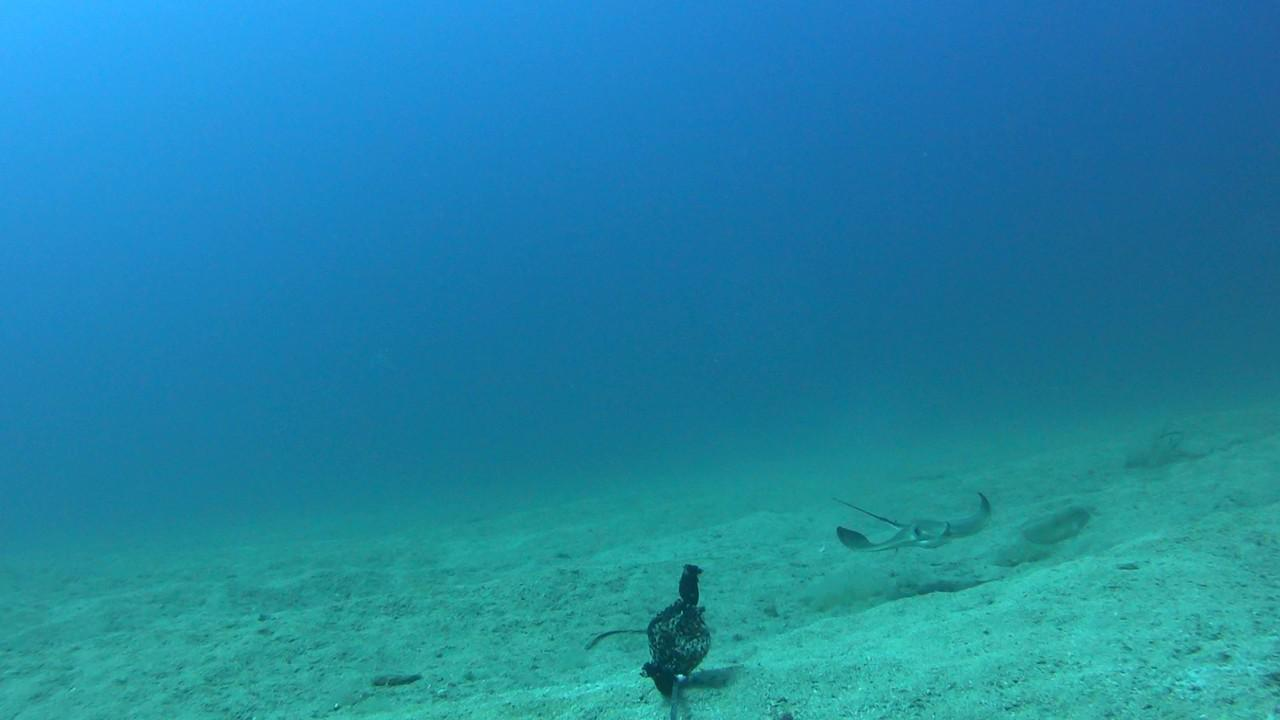myliobatis: (830, 481, 1001, 578)
